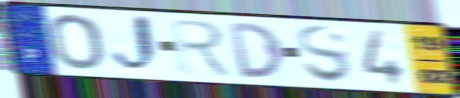4: (361, 28, 408, 87)
D: (226, 21, 288, 80)
J: (109, 13, 164, 77)
O: (47, 12, 106, 72)
R: (167, 17, 237, 80)
S: (295, 24, 356, 86)
